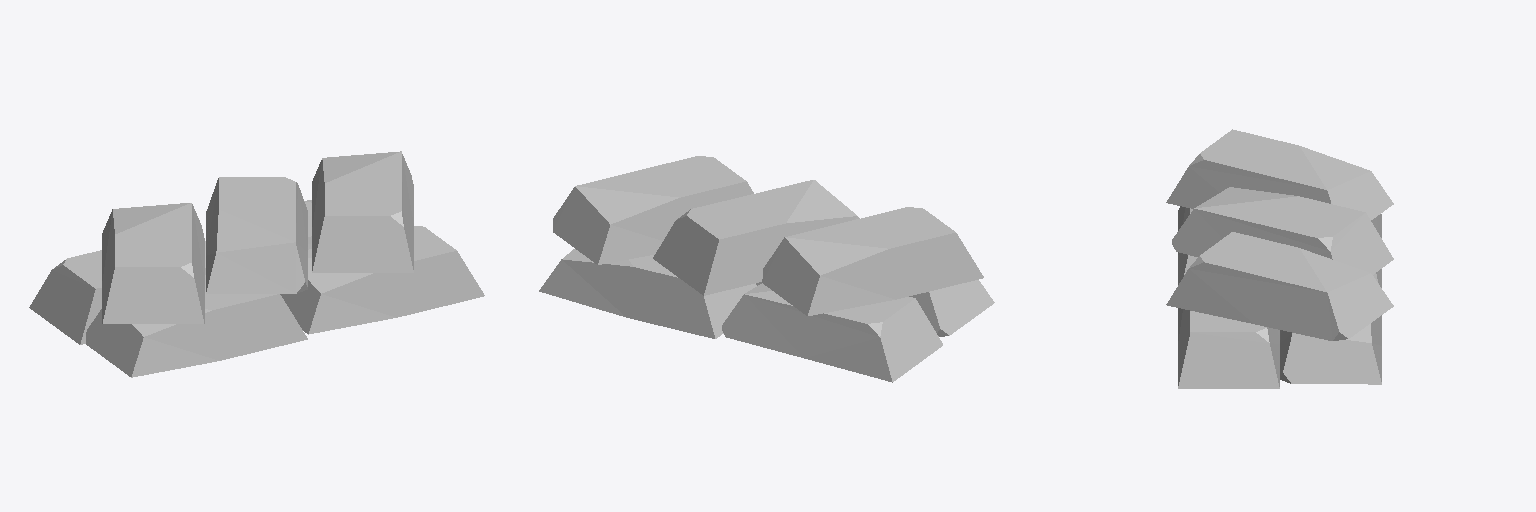
File: Gold-14.obj
The picture shows the model from 3 angles: view 1: azimuth 30°, elevation 25°; view 2: azimuth 150°, elevation 25°; view 3: azimuth 270°, elevation 25°; orthographic projection.
Visible parts, largest first — view 1: Gold_14; view 2: Gold_14; view 3: Gold_14.
Boxes of the visible parts, box(x1,y1,x2,y2) form: Gold_14: box(29, 151, 484, 377); Gold_14: box(539, 156, 994, 382); Gold_14: box(1166, 129, 1393, 388).
Bounding box in the file's own units: 0.3135 × 0.075 × 0.1674.